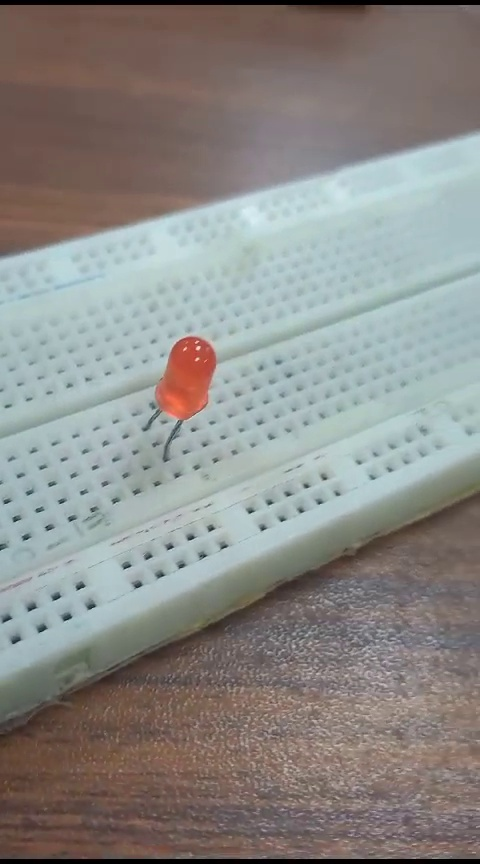LED: (147, 336, 216, 452)
